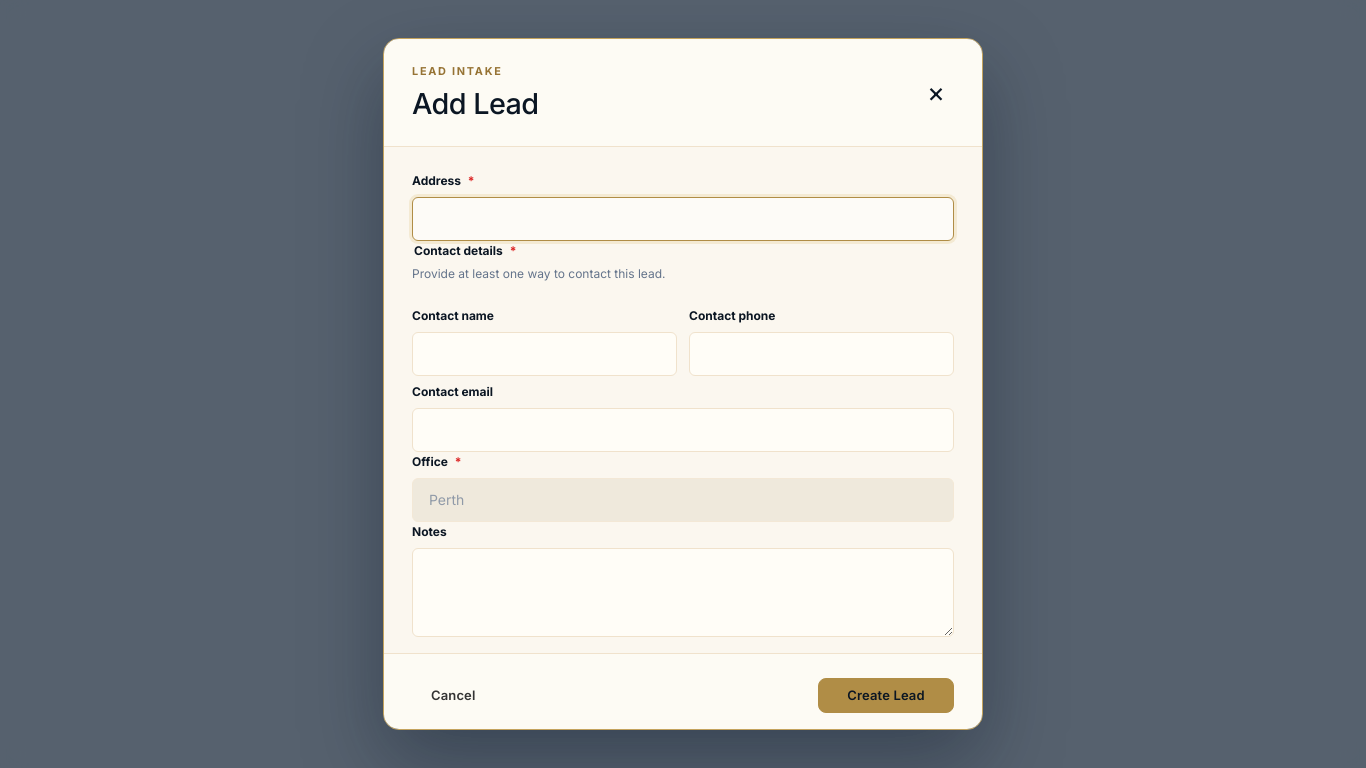
it: AddLeadModal › shows a clear error when ingestion returns duplicate
Type "42 Smith Street, Joondalup WA 6027" into the field labelled "Address *" at (683, 219), box [412,197,954,241]
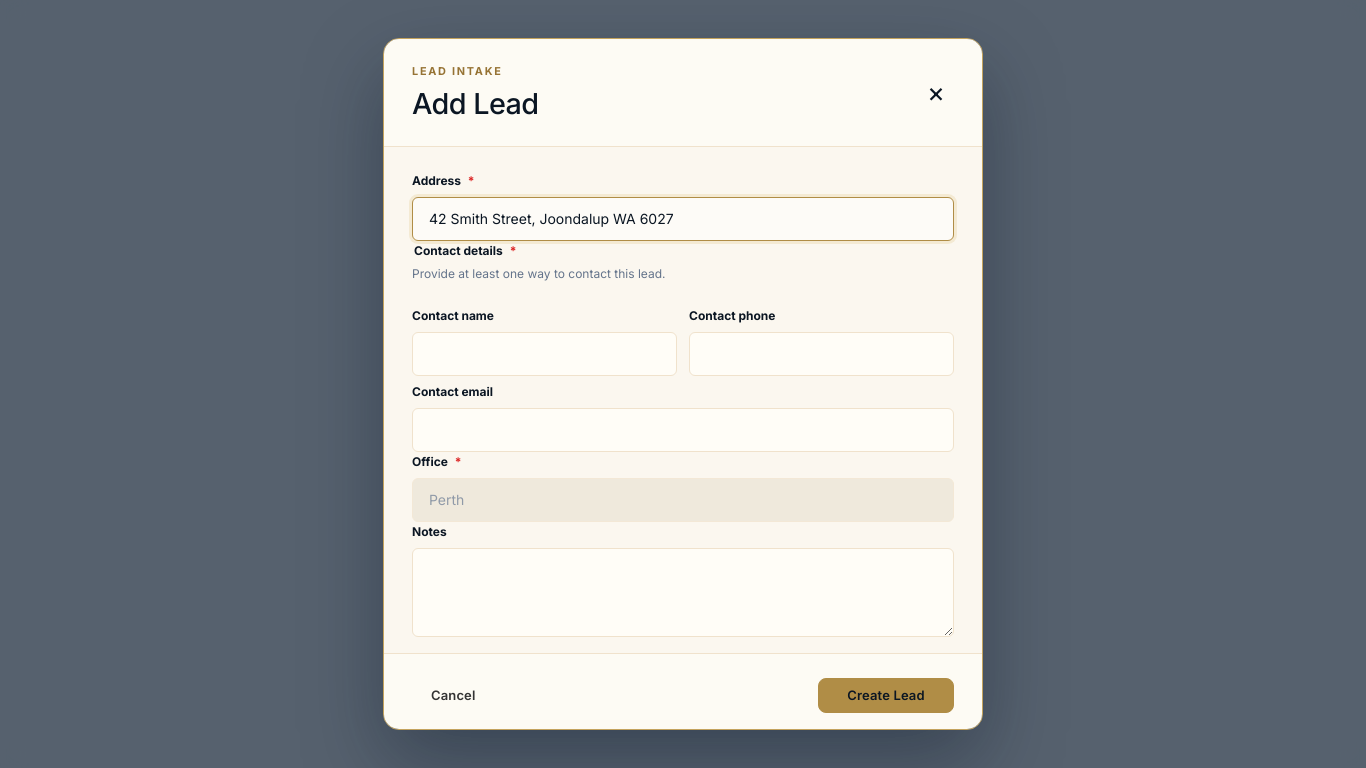
Type "Ada Lovelace" into the field labelled "Contact name" at (544, 354), box [412,332,677,376]
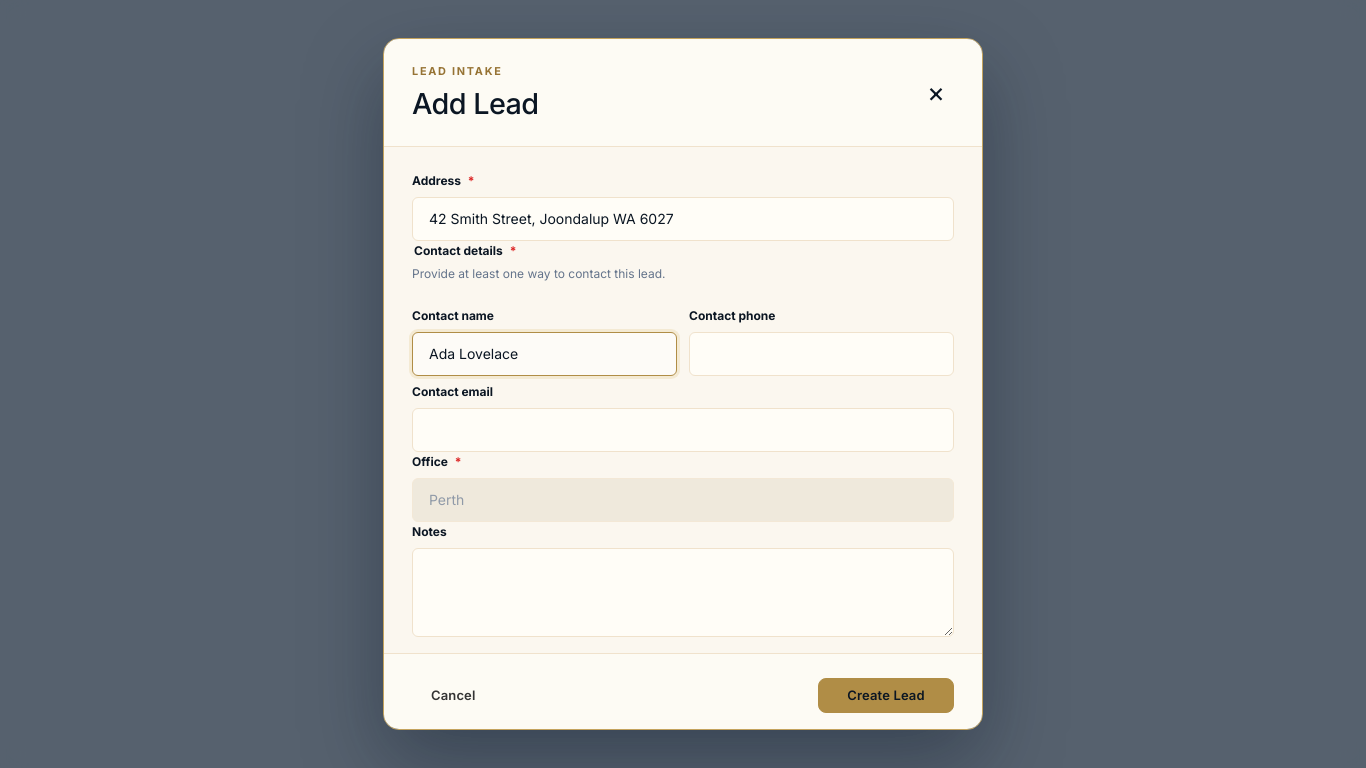
Click the button "Create Lead" at (886, 696), box [818,678,954,713]
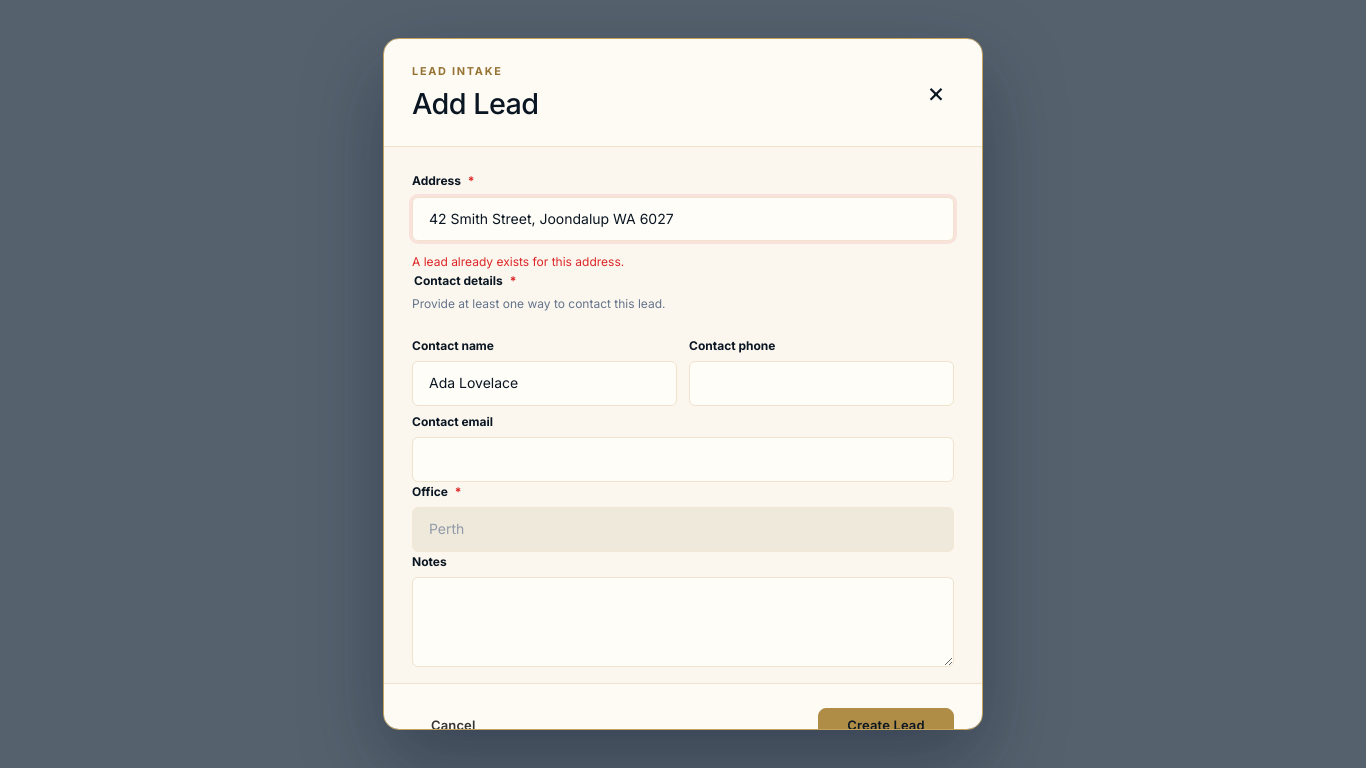
expect the message shows "already exists": met, box [412,254,624,269]
